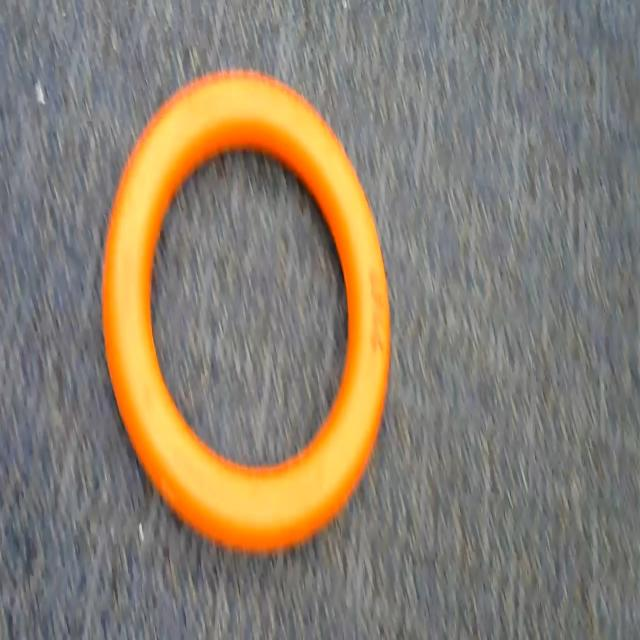note: (93, 66, 391, 569)
